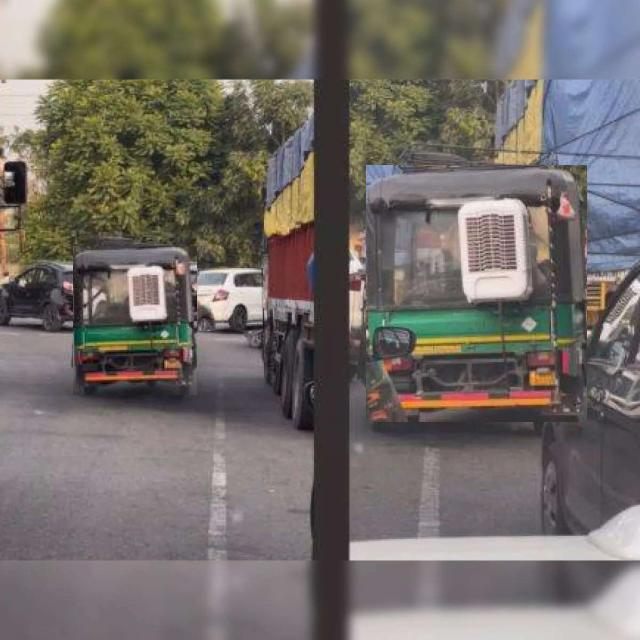autorickshaw: (366, 165, 586, 422), (73, 247, 196, 395)
car: (197, 269, 262, 331)
